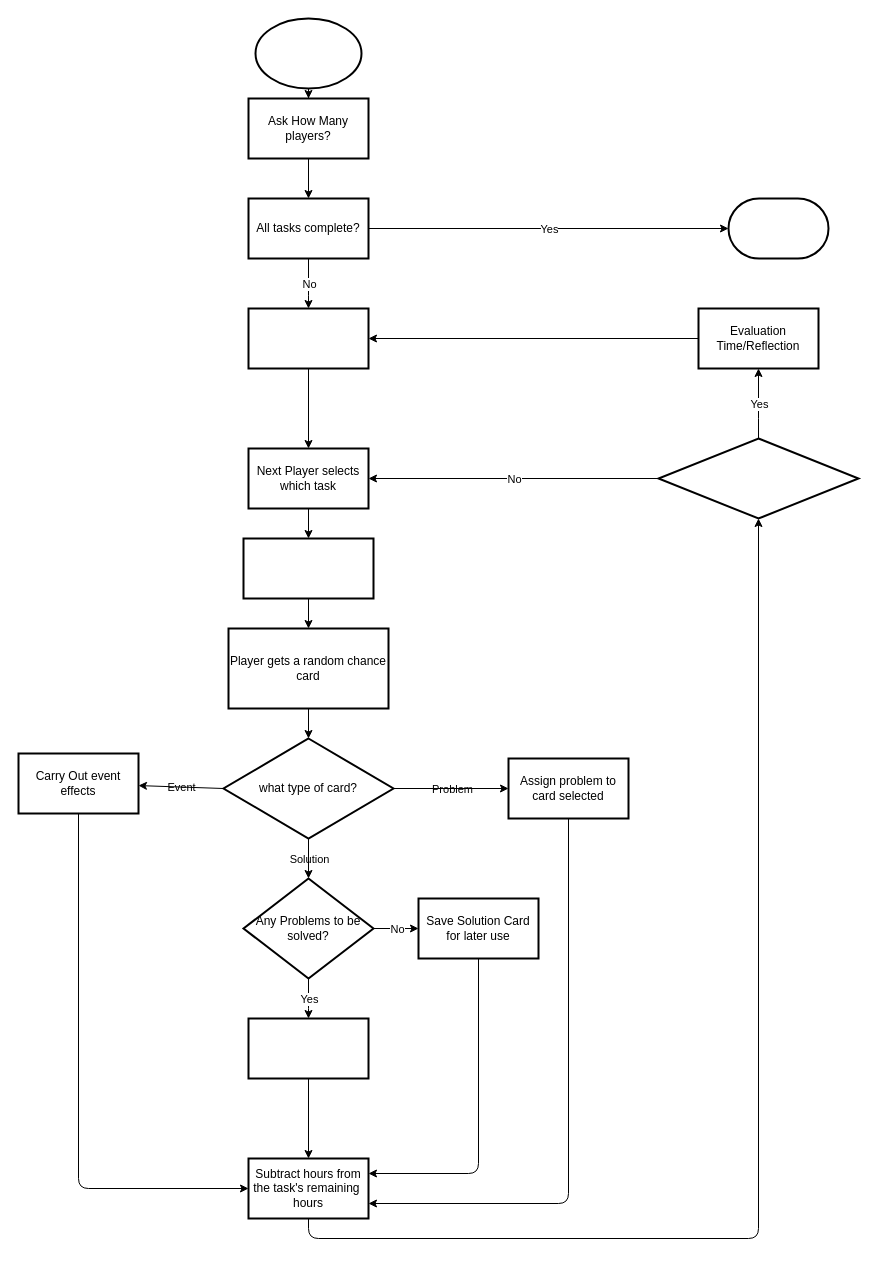
This 876x1264 diagram has some shape labels left out. Here are the shapes that lost their labels. From the top down, the centre of each, then its label:
At pixel 308 53: "Start".
At pixel 778 228: "END".
At pixel 308 338: "Set tasks to complete from backlog".
At pixel 758 478: "All players have taken 3 turns?".
At pixel 308 568: "Player rolls dice to get number of hours".
At pixel 308 1048: "Remove problem from task".
